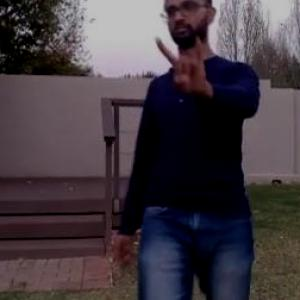takeoff-hand: (155, 20, 213, 98)
